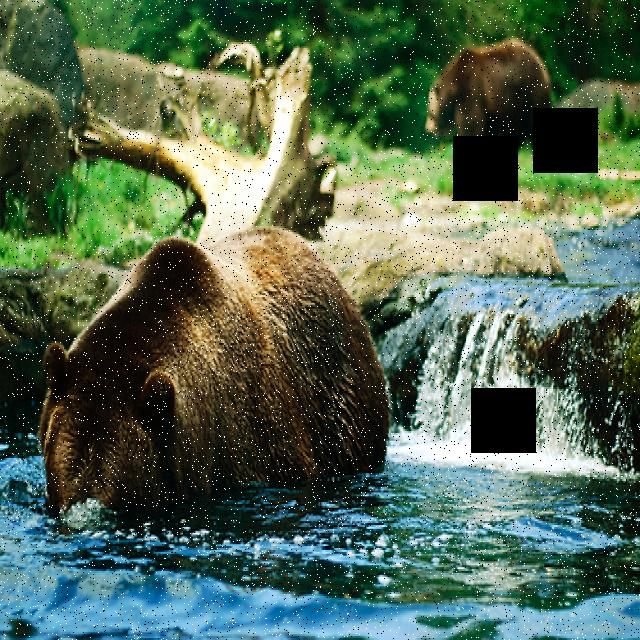Bear: (41, 222, 387, 520), (426, 31, 560, 170)
